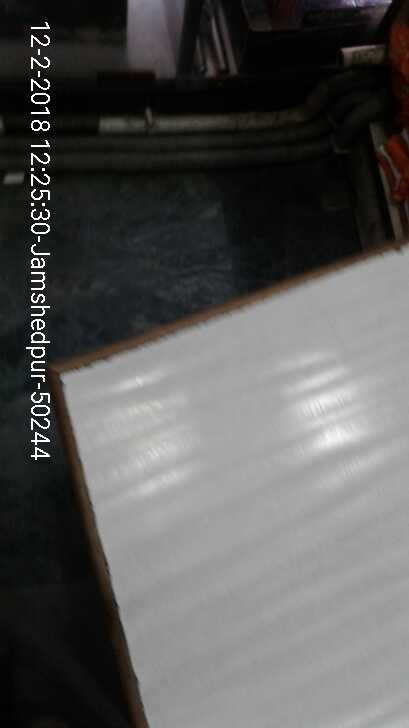reject: (71, 226, 215, 344)
